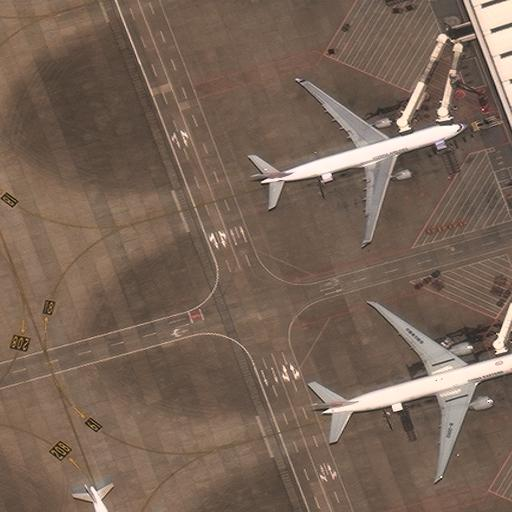Large Civil Transport: (249, 79, 468, 243), (310, 301, 512, 478)
Medium Civil Transport: (72, 483, 144, 511)
